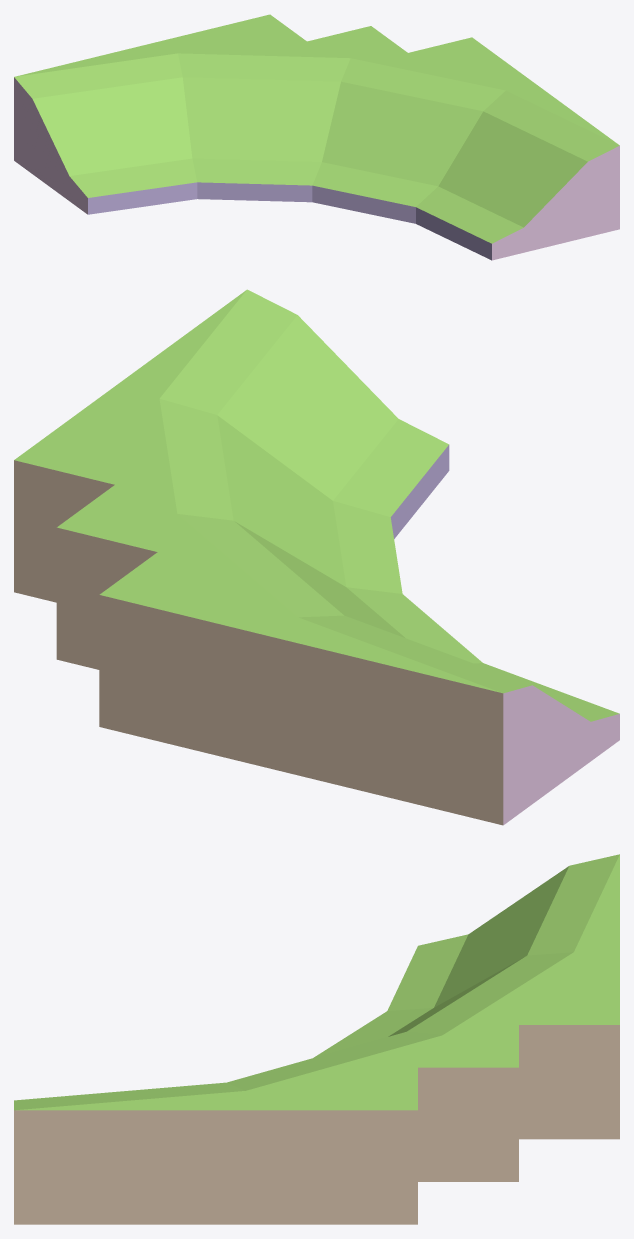
Rendered from Grass_Hill_Sharp_Curve_Inner_6x6.glb.
The picture shows the model from 3 angles, top to bottom: view 1: azimuth 30°, elevation 25°; view 2: azimuth 150°, elevation 25°; view 3: azimuth 270°, elevation 25°; orthographic projection. The views are drawn at different scales.
Visible parts, largest first — view 1: Grass_Hill_Sharp_Curve_Inner_6x6; view 2: Grass_Hill_Sharp_Curve_Inner_6x6; view 3: Grass_Hill_Sharp_Curve_Inner_6x6.
Boxes of the visible parts, <box> form: Grass_Hill_Sharp_Curve_Inner_6x6: <box>14,14,619,260</box>; Grass_Hill_Sharp_Curve_Inner_6x6: <box>14,289,619,825</box>; Grass_Hill_Sharp_Curve_Inner_6x6: <box>14,854,619,1224</box>.
Bounding box in the file's own units: 600 × 125 × 600.
